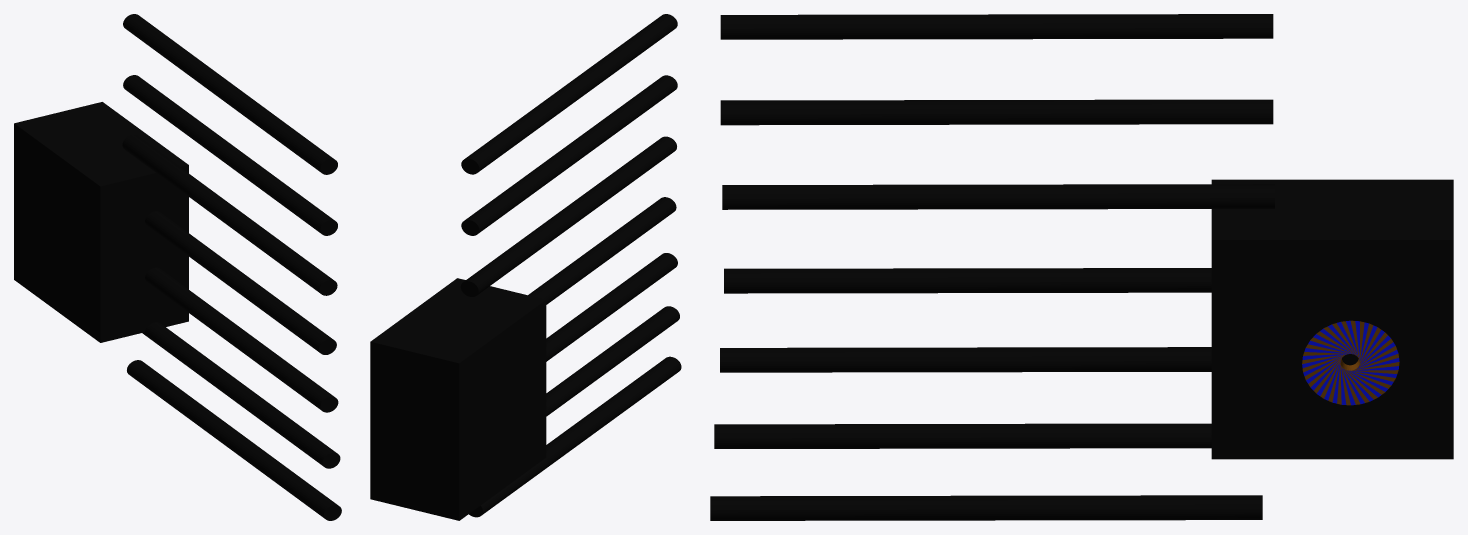
File: Door.fbx
3 views of the same model, side by side, from view 1: azimuth 30°, elevation 25°; view 2: azimuth 150°, elevation 25°; view 3: azimuth 270°, elevation 25° (orthographic). The views are drawn at different scales.
Visible parts, largest first — view 1: Cylinder.006, Cube; view 2: Cube, Cylinder.006; view 3: Cylinder.006, Cube, Cylinder.
Boxes of the visible parts, x1,y1,x2,y2 form: Cylinder.006: [122, 14, 341, 520]; Cube: [14, 102, 188, 342]; Cube: [370, 278, 546, 520]; Cylinder.006: [460, 14, 681, 517]; Cylinder.006: [710, 14, 1274, 520]; Cube: [1211, 179, 1453, 459]; Cylinder: [1302, 320, 1399, 405].
Size of the model in its own units: 127 by 459 by 614.
